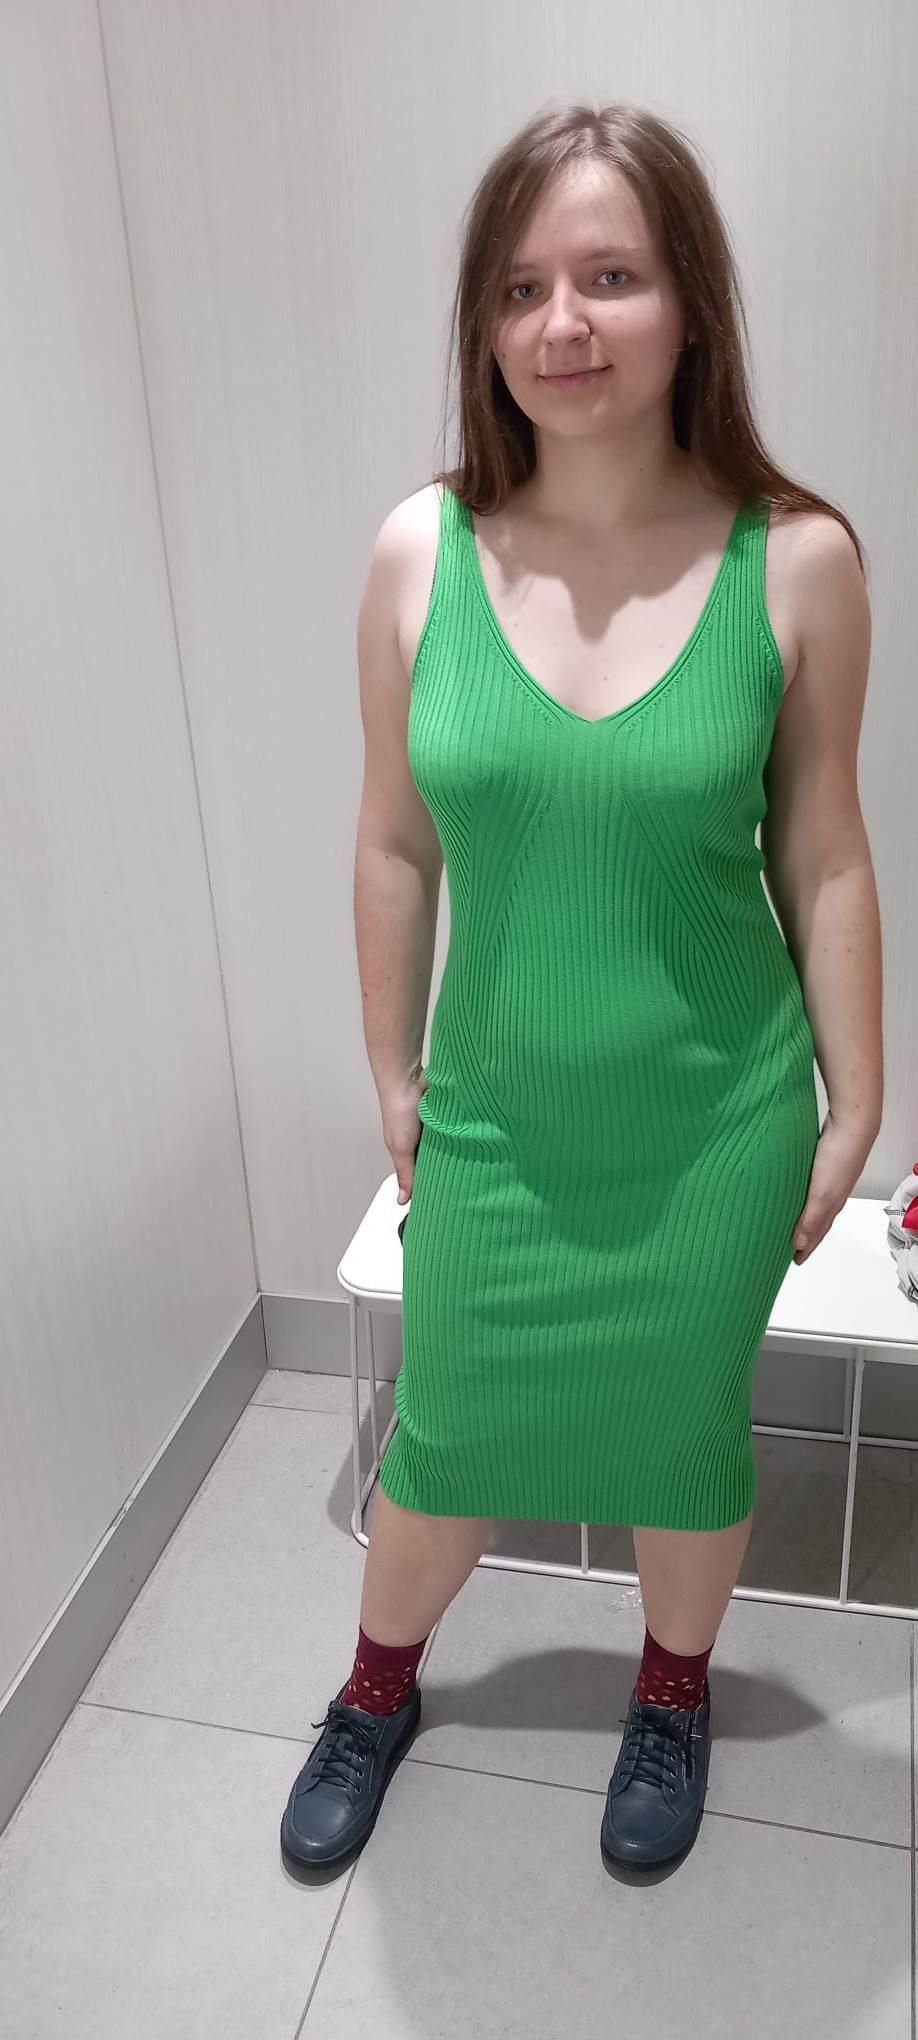dress: (371, 483, 820, 1533)
